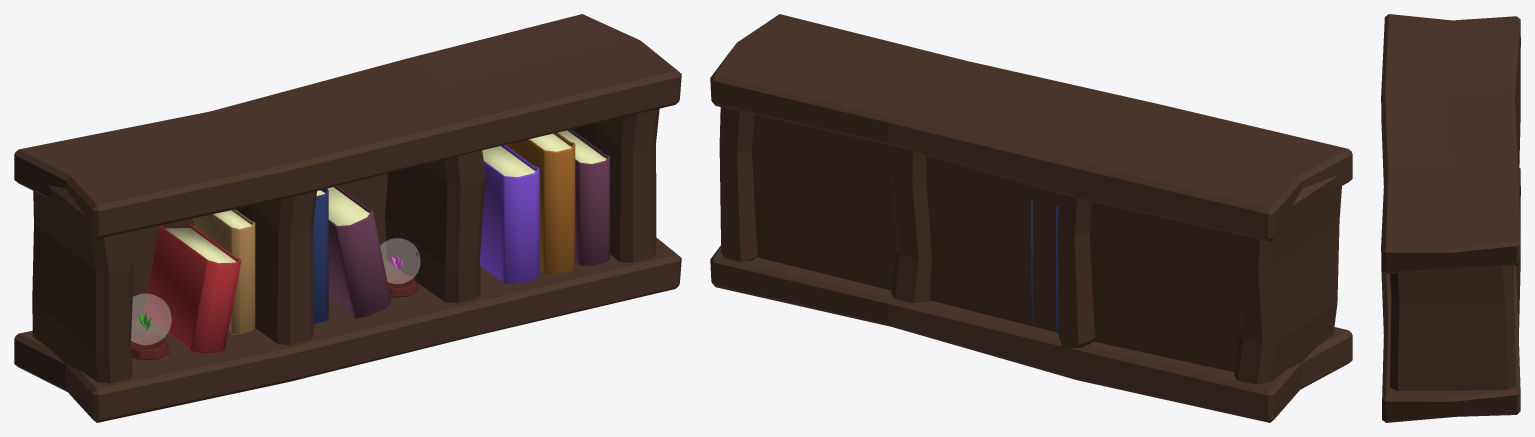
The model's file is bookshelf wall 2.fbx.
3 views of the same model, side by side, from view 1: azimuth 30°, elevation 25°; view 2: azimuth 150°, elevation 25°; view 3: azimuth 270°, elevation 25° (orthographic). The views are drawn at different scales.
Visible parts, largest first — view 1: b1; view 2: b1; view 3: b1.
Part boxes in pixels (bbox=[...]): b1: bbox=[14, 14, 681, 422]; b1: bbox=[710, 14, 1352, 422]; b1: bbox=[1381, 14, 1520, 422].
Size of the model in its own units: 284 by 104 by 72.19.
